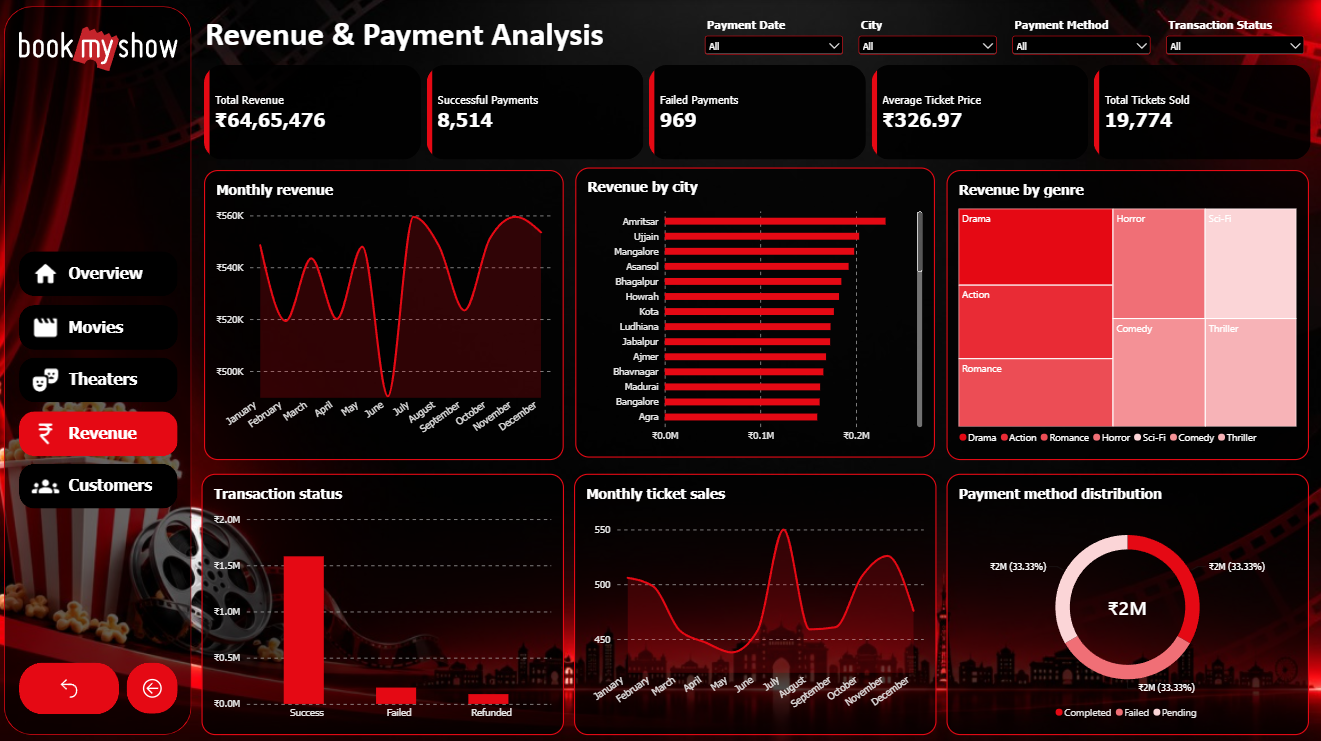

This screenshot's page, from the dashboard's own definition file:
{"tool":"powerbi","page":{"name":"Revenue & Payment Analysis","canvas":[1920,1080],"ordinal":3},"visuals":[{"type":"shape","box":[7.9,9,271.4,1055],"z":0},{"type":"image","box":[28.3,19.9,229.8,101.3],"z":1000,"group":"g1"},{"type":"cardVisual","fields":{"Data":["_Measures.Total Revenue","_Measures.Successful Payments","_Measures.Failed Payments","_Measures.Average Ticket Price","_Measures.Total Tickets Sold"]},"box":[296.8,94.1,1603.4,137.5],"z":1000},{"type":"group","id":"g1","title":"Group 2","box":[28.3,19.9,230.7,716.6],"z":2000},{"type":"actionButton","box":[29.1,363.7,229.8,65.1],"z":2000,"group":"g2"},{"type":"lineChart","title":"Monthly revenue","fields":{"Category":["bookmyshow_db bookings.booking_date.Variation.Date Hierarchy.Month"],"Y":["_Measures.Total Revenue"]},"box":[296.8,246.1,521.2,419.8],"z":3000},{"type":"actionButton","box":[29,440.6,230,65.1],"z":3000,"group":"g2"},{"type":"treemap","title":"Revenue by genre","fields":{"Group":["bookmyshow_db movies.genre"],"Values":["_Measures.Total Revenue"]},"box":[1371.7,246.1,524.8,419.8],"z":4000},{"type":"actionButton","box":[29.1,517.5,229.8,65.1],"z":4000,"group":"g2"},{"type":"actionButton","box":[29.1,594.4,229.8,65.1],"z":5000,"group":"g2"},{"type":"columnChart","title":"Transaction status","fields":{"Category":["bookmyshow_db payments.transaction_status"],"Y":["_Measures.Total Revenue"]},"box":[293.9,685.9,525,378.2],"z":5000},{"type":"actionButton","box":[29.1,671.3,229.8,65.1],"z":6000,"group":"g2"},{"type":"areaChart","title":"Monthly ticket sales","fields":{"Category":["bookmyshow_db bookings.booking_date.Variation.Date Hierarchy.Month"],"Y":["_Measures.Total Tickets Sold"]},"box":[833.2,685.9,525,378.2],"z":6000},{"type":"donutChart","title":"Payment method distribution","fields":{"Category":["bookmyshow_db bookings.payment_status"],"Y":["_Measures.Total Revenue"]},"box":[1372.4,685.9,525,378.2],"z":7000},{"type":"group","id":"g2","title":"Group 1","box":[29,363.7,230,372.8],"z":7001,"group":"g1"},{"type":"slicer","title":"Language","fields":{"Values":["bookmyshow_db payments.transaction_status"]},"box":[1684.9,25.3,209.9,56.1],"z":8000},{"type":"slicer","title":"Language","fields":{"Values":["bookmyshow_db payments.payment_method"]},"box":[1462.3,25.3,209.9,56.1],"z":9000},{"type":"slicer","title":"Language","fields":{"Values":["bookmyshow_db theaters.city"]},"box":[1239.7,25.3,209.9,56.1],"z":10000},{"type":"slicer","title":"Language","fields":{"Values":["bookmyshow_db payments.payment_date"]},"box":[1017.1,25.3,209.9,56.1],"z":11000},{"type":"textbox","box":[298.6,19.9,704,63.3],"z":12000},{"type":"actionButton","box":[28.3,959.2,145,75],"z":13000},{"type":"actionButton","box":[184.2,960,74.2,74.2],"z":14000},{"type":"barChart","title":"Revenue by city","fields":{"Category":["bookmyshow_db theaters.city"],"Y":["_Measures.Total Revenue"]},"box":[834.3,242.5,521.2,419.8],"z":15000}]}

Visuals, with their boxes in screenshot pixels (x1, y1, x2, y2), scaled from the page's 1920x1080 canvas onto the 1321x741 screenshot:
shape: select_region(5, 6, 192, 730)
image: select_region(19, 14, 178, 83)
cardVisual - _Measures.Total Revenue x _Measures.Successful Payments: select_region(204, 65, 1307, 159)
"Group 2" group: select_region(19, 14, 178, 505)
actionButton: select_region(20, 250, 178, 294)
"Monthly revenue" lineChart: select_region(204, 169, 563, 457)
actionButton: select_region(20, 302, 178, 347)
"Revenue by genre" treemap: select_region(944, 169, 1305, 457)
actionButton: select_region(20, 355, 178, 400)
actionButton: select_region(20, 408, 178, 452)
"Transaction status" columnChart: select_region(202, 471, 563, 730)
actionButton: select_region(20, 461, 178, 505)
"Monthly ticket sales" areaChart: select_region(573, 471, 934, 730)
"Payment method distribution" donutChart: select_region(944, 471, 1305, 730)
"Group 1" group: select_region(20, 250, 178, 505)
"Language" slicer: select_region(1159, 17, 1304, 56)
"Language" slicer: select_region(1006, 17, 1151, 56)
"Language" slicer: select_region(853, 17, 997, 56)
"Language" slicer: select_region(700, 17, 844, 56)
textbox: select_region(205, 14, 690, 57)
actionButton: select_region(19, 658, 119, 710)
actionButton: select_region(127, 659, 178, 710)
"Revenue by city" barChart: select_region(574, 166, 933, 454)
